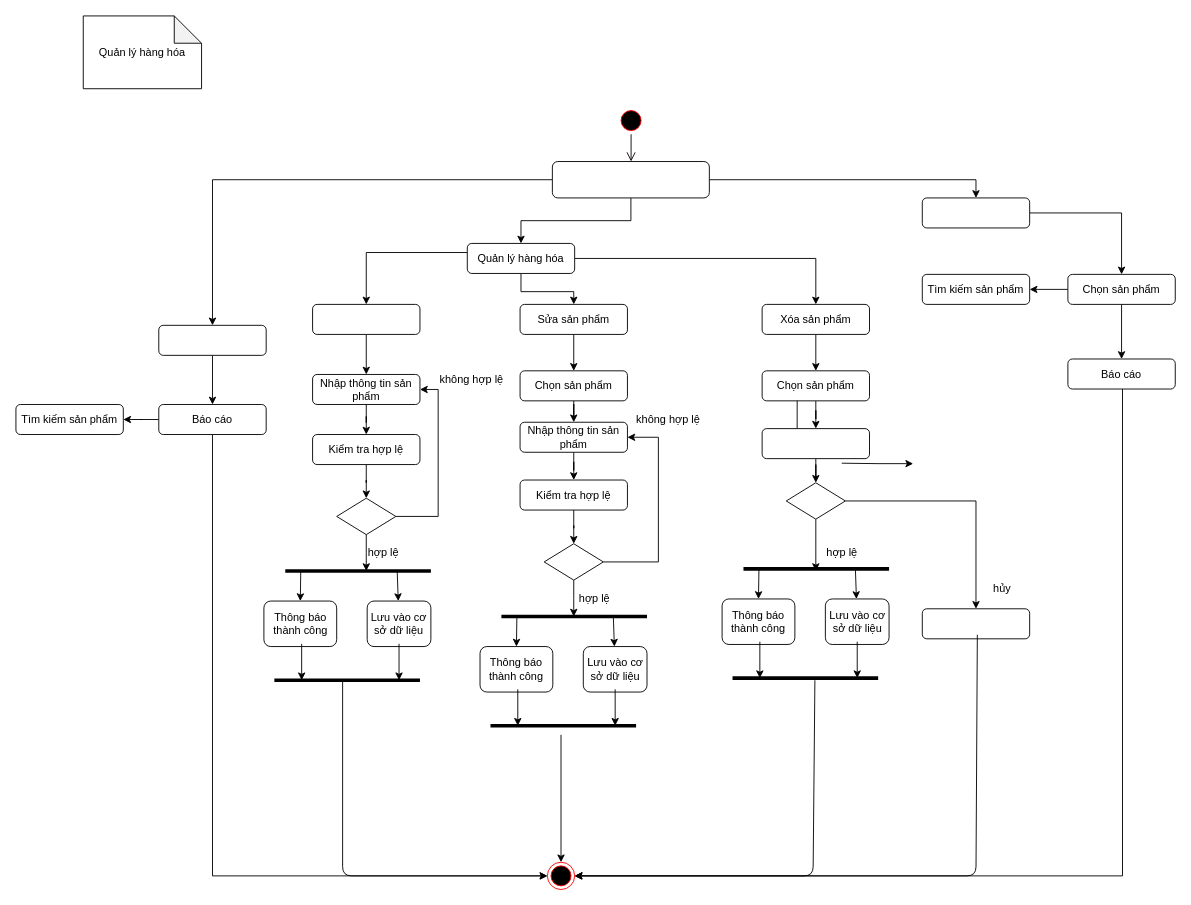
This 1191x905 diagram has some shape labels left out. The box of each missing label's shape, as (x1, y1, x2, y2) in pixels:
Danh sách sản phẩm: (921, 197, 1030, 228)
Hệ thống hiển thị menu chọn: (551, 161, 709, 198)
Hủy xóa sản phẩm: (921, 608, 1030, 639)
Thêm sản phẩm: (312, 303, 420, 334)
Xem hàng tốn kho: (158, 324, 266, 355)
Xác nhận xóa: (761, 428, 870, 459)
